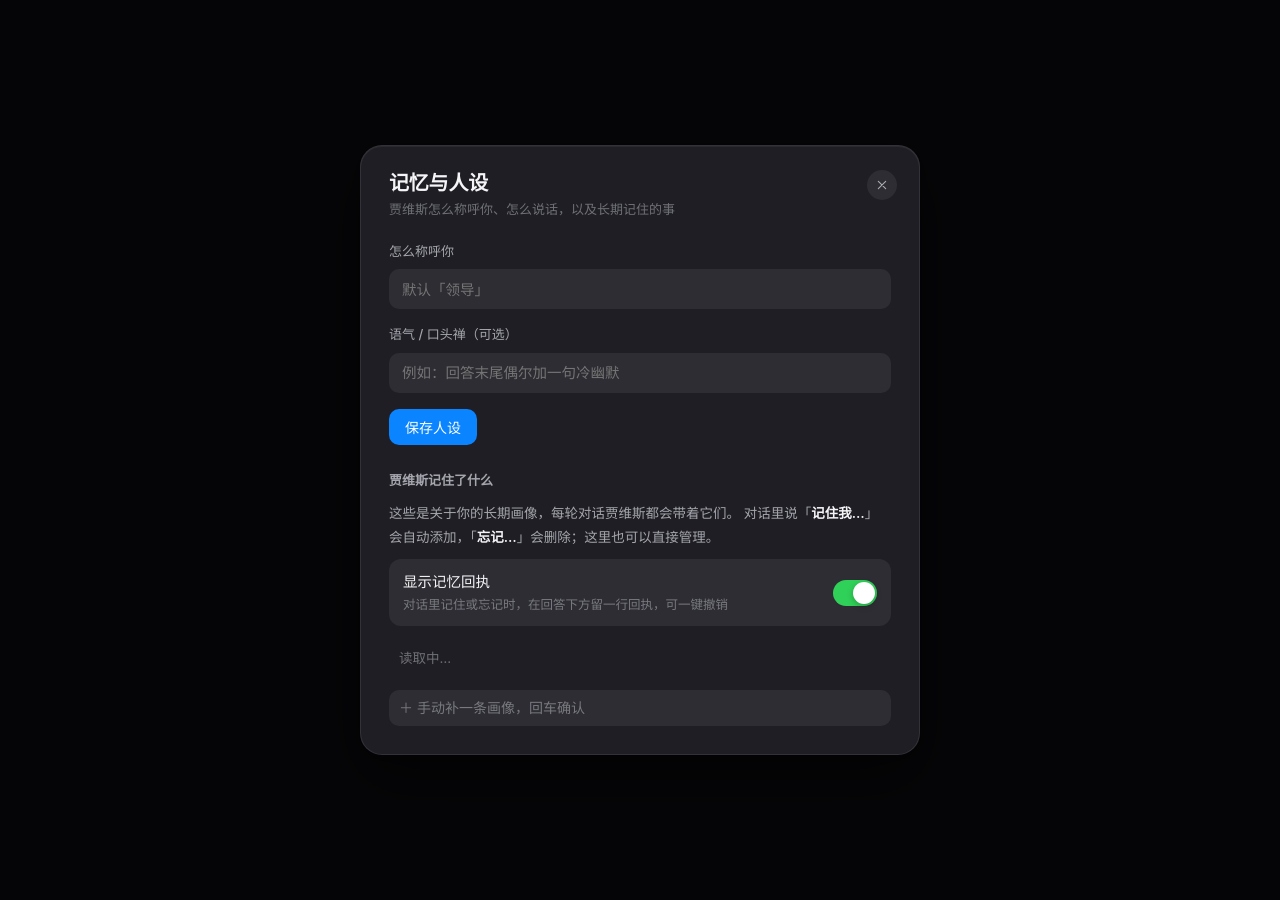
Test: 记忆面板 › 人设区改称呼与语气并保存；只剩一种人格，不显示人格切换
This screenshot has width=1280, height=900.
Type "陈总" into the field labelled "称呼" at [640, 289], box [389,269,891,309]
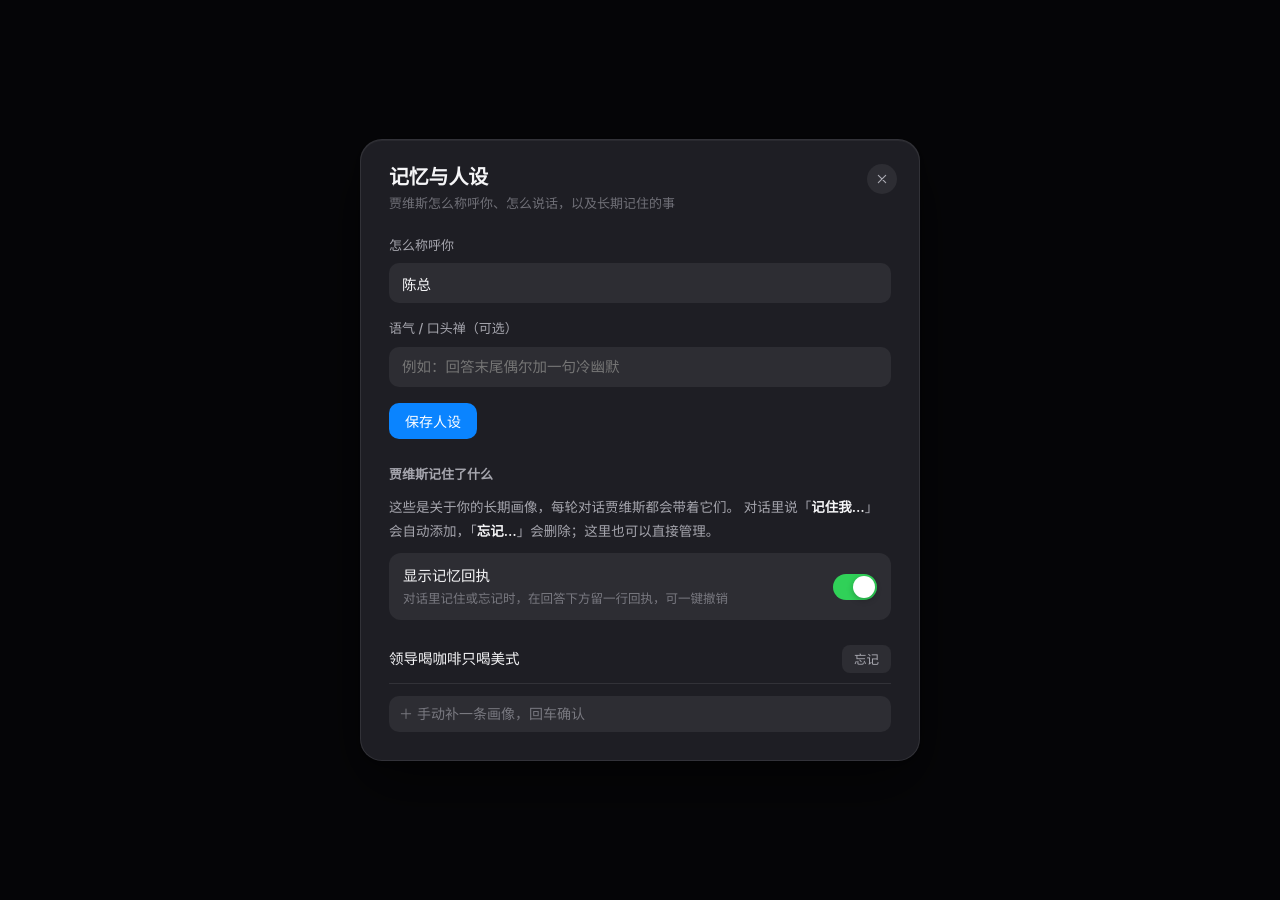
Type "多点冷幽默" into the field labelled "语气" at [640, 367], box [389,347,891,387]
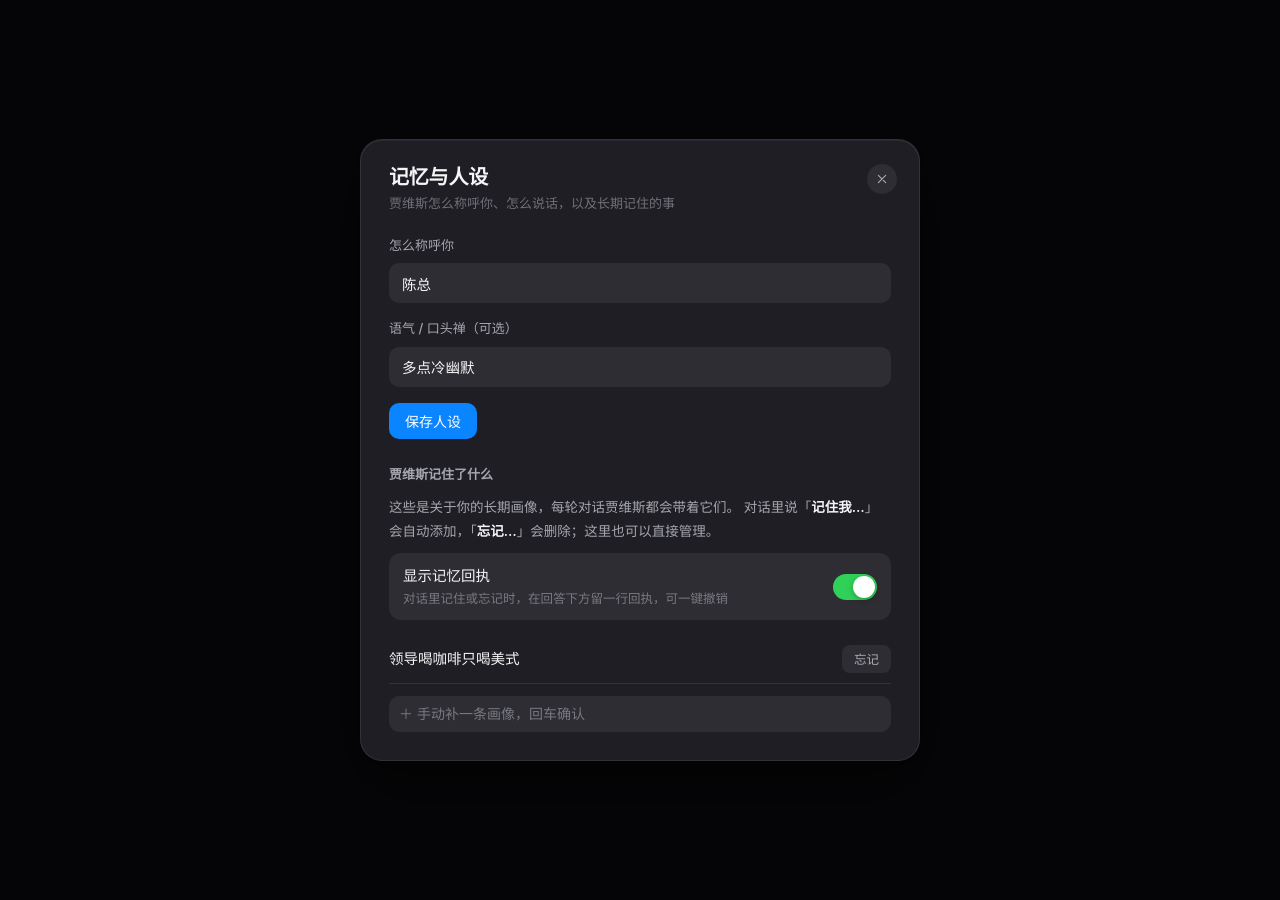
Click the button "保存人设" at [433, 421], box [389,403,477,439]
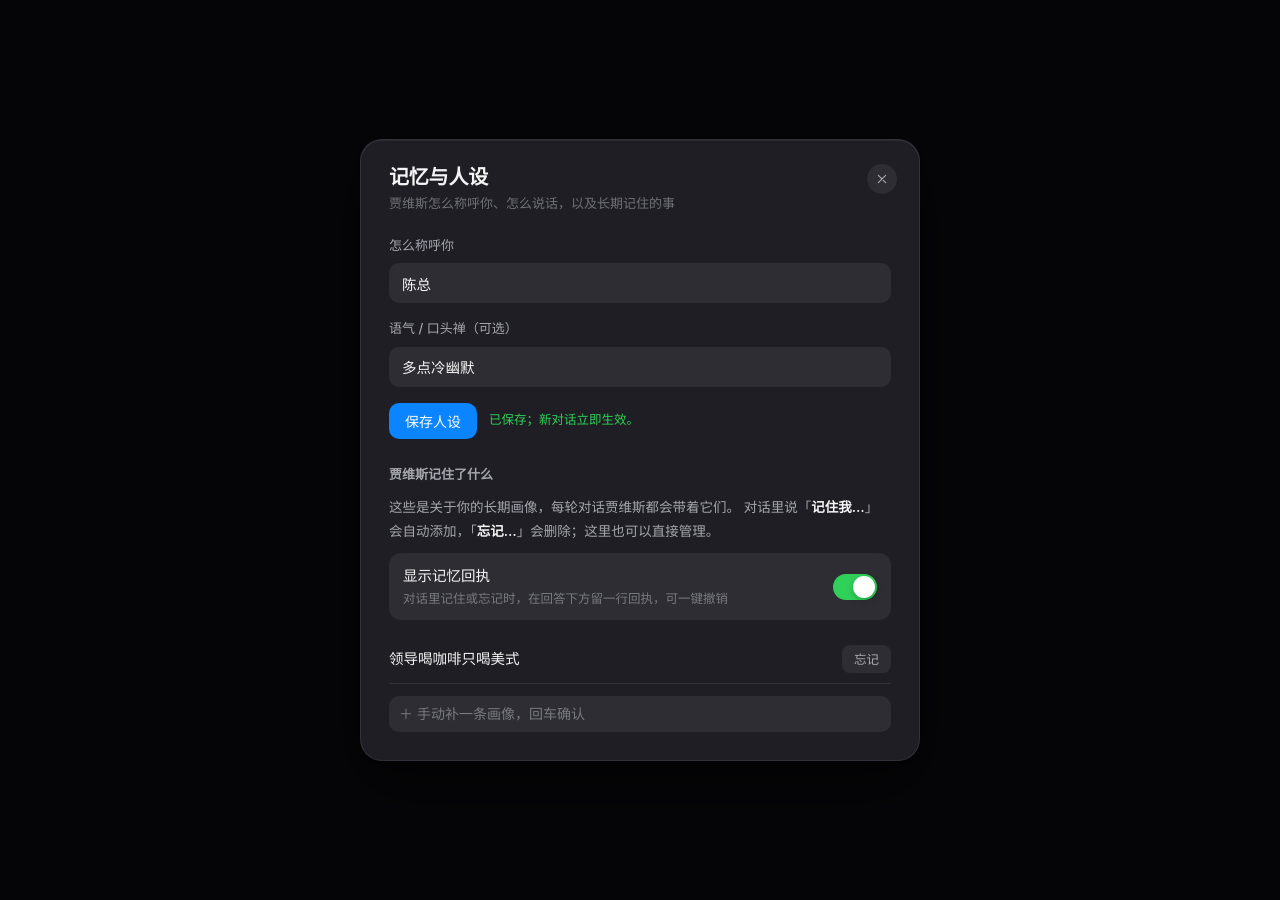
Check: the text "已保存；新对话立即生效。" is shown, box [489,411,639,430]
